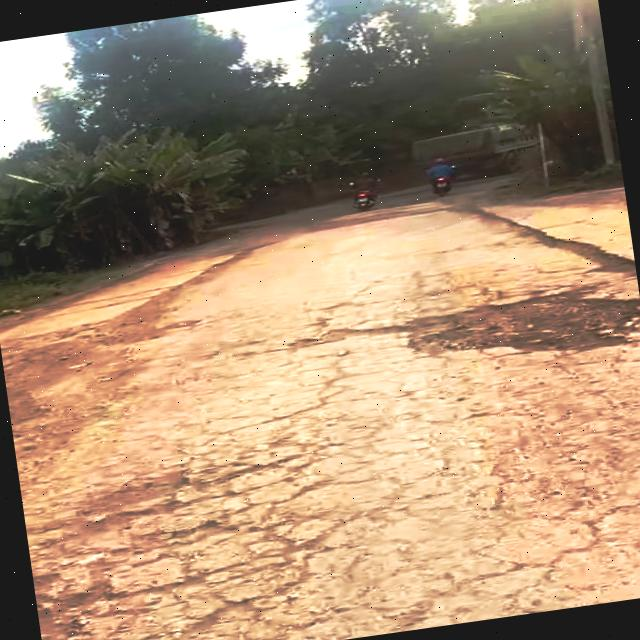pothole: (402, 278, 640, 381)
